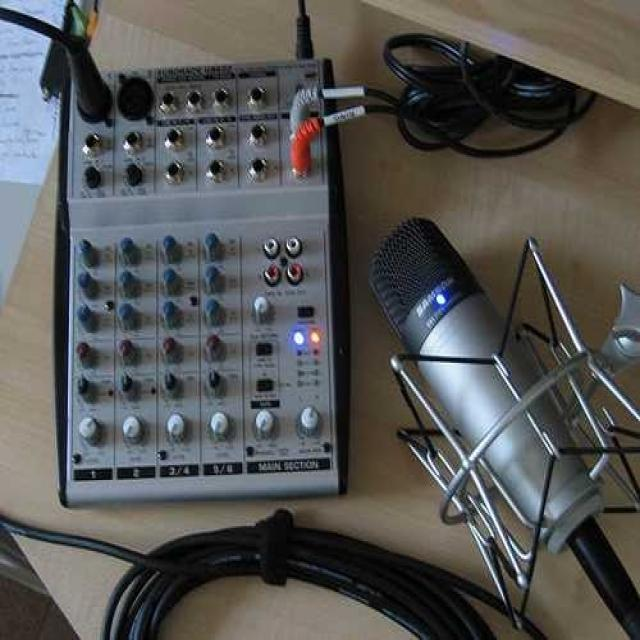microphone: (369, 220, 612, 552)
